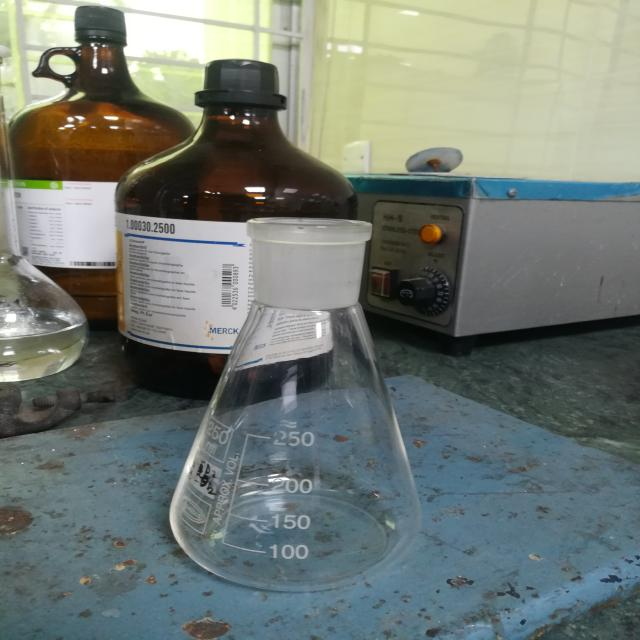Conical_Flask: (133, 196, 474, 614)
